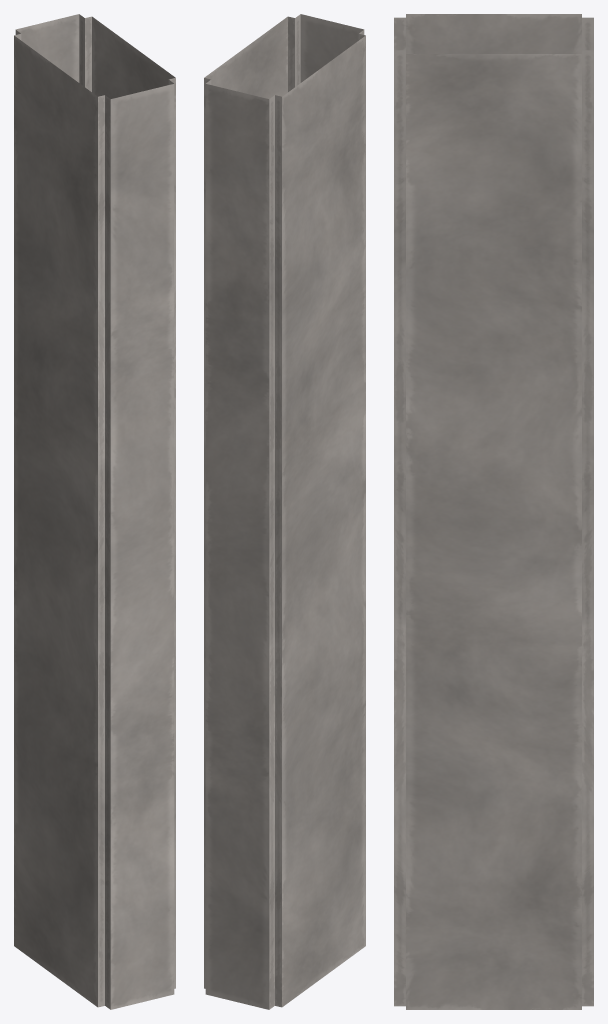
The model's file is Post_A_6m.fbx.
3 renders of one model, left to right at view 1: azimuth 30°, elevation 25°; view 2: azimuth 150°, elevation 25°; view 3: azimuth 270°, elevation 25°, orthographic. The views are drawn at different scales.
Visible parts, largest first — view 1: Post_A_6m; view 2: Post_A_6m; view 3: Post_A_6m.
Part boxes in pixels (x1,y1,x2,y2): Post_A_6m: [14, 14, 175, 1009]; Post_A_6m: [204, 14, 365, 1009]; Post_A_6m: [394, 14, 593, 1009].
Bounding box in the file's own units: 0.5372 × 1.14 × 6.
